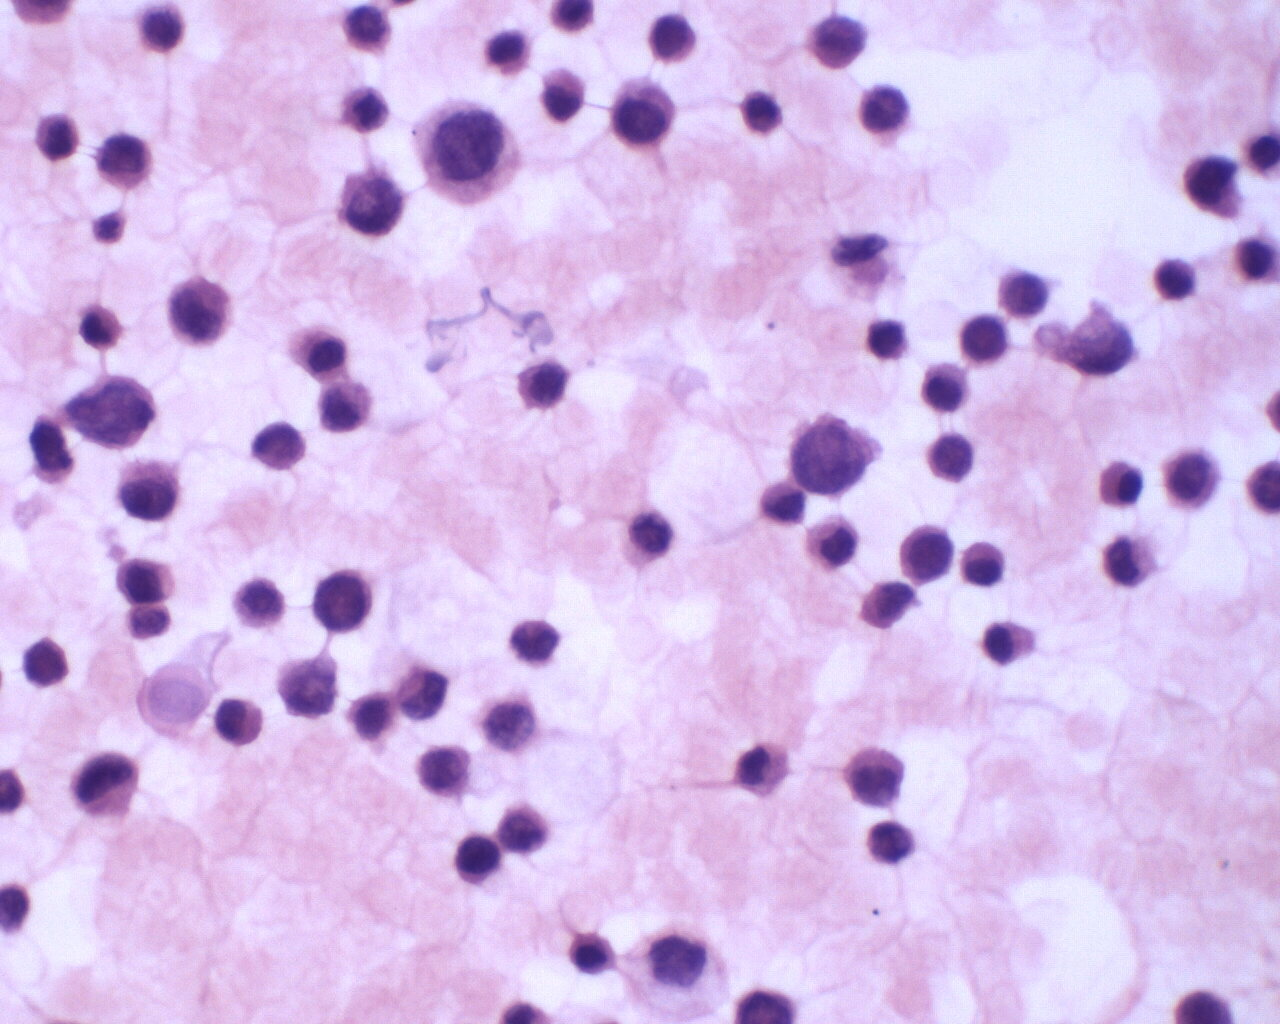ab: (413, 95, 522, 209), (787, 415, 882, 501), (164, 267, 240, 352), (608, 72, 675, 155), (839, 742, 911, 812), (339, 167, 406, 238), (113, 458, 185, 525), (310, 567, 378, 635), (1183, 152, 1248, 218), (894, 521, 957, 589), (1161, 448, 1224, 516), (93, 127, 157, 191), (416, 743, 480, 804), (20, 634, 77, 694), (515, 353, 572, 414), (111, 555, 180, 602), (645, 8, 701, 66), (925, 430, 980, 488), (451, 832, 505, 891), (954, 312, 1010, 363)
meso: (210, 693, 269, 752), (958, 533, 1014, 590), (1095, 455, 1149, 508)
